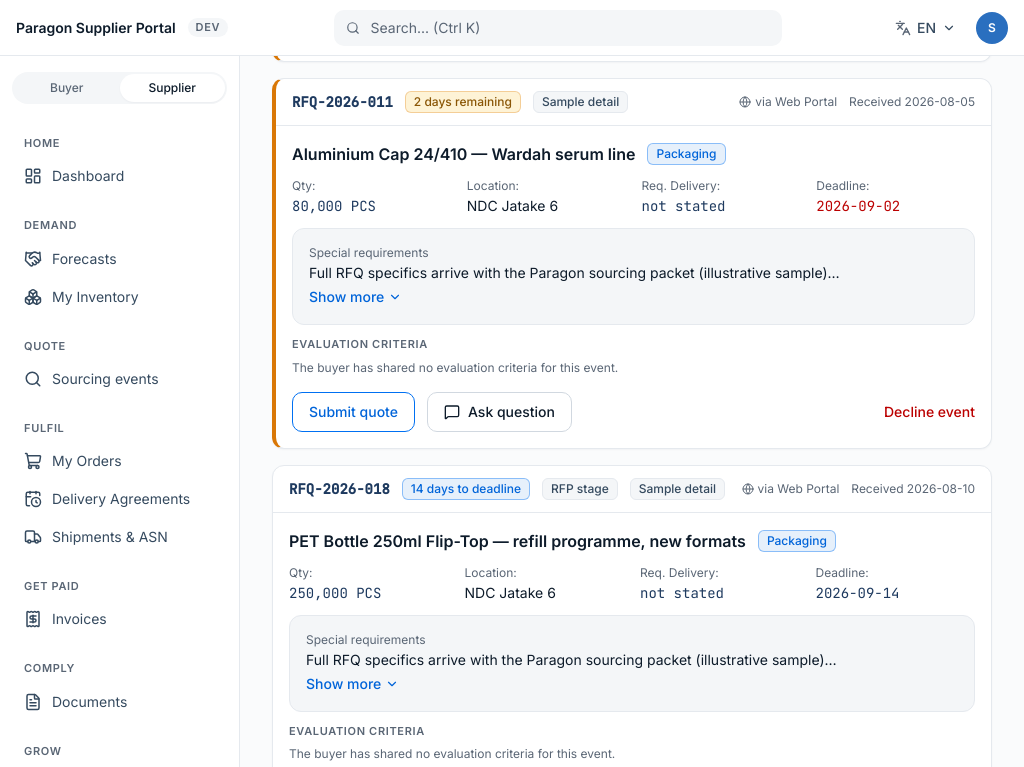
Test case: SupplierRFQs — the open quote panel is gated by the SEAT, not by the entrance › a commercial seat opens the panel and reaches the submit control
The image size is (1024, 767).
(page scrolled)
Click the button "Submit quote".
click(354, 412)  # box 292,392 -> 415,432
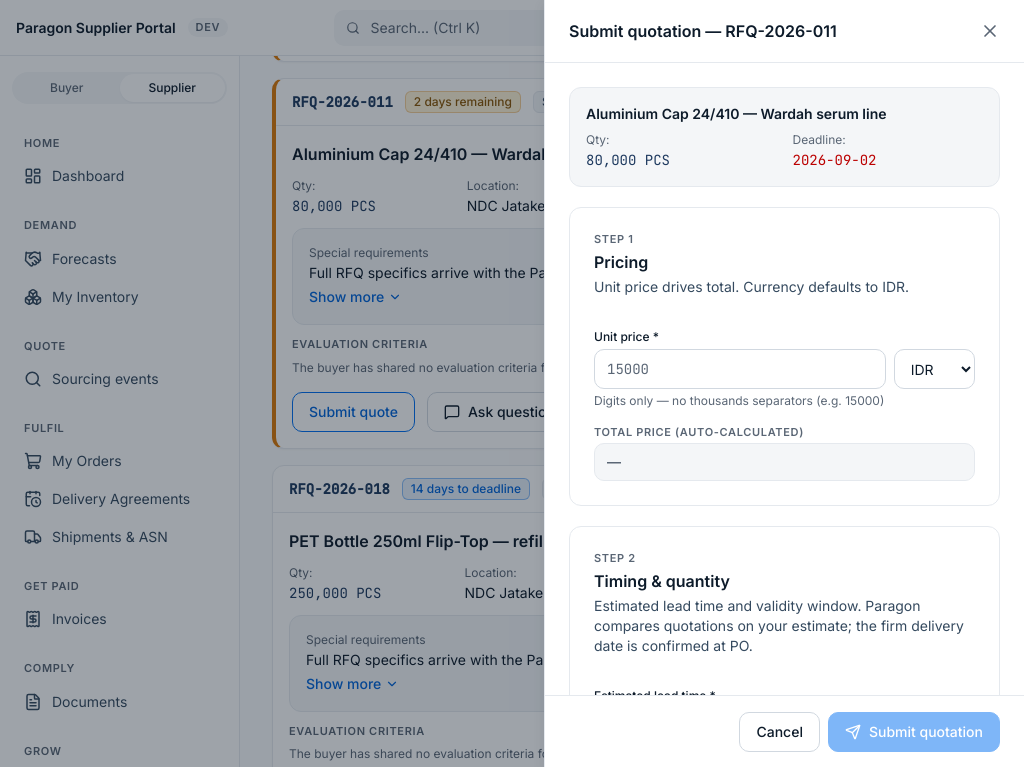
Expected: the button "Submit quotation" is shown, 828,712 -> 1000,752
